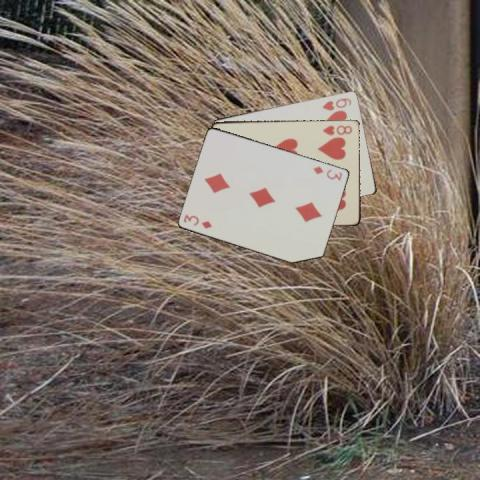3d: (311, 163, 344, 182), (181, 211, 213, 230)
6h: (319, 95, 353, 111)
8h: (320, 122, 353, 137)
